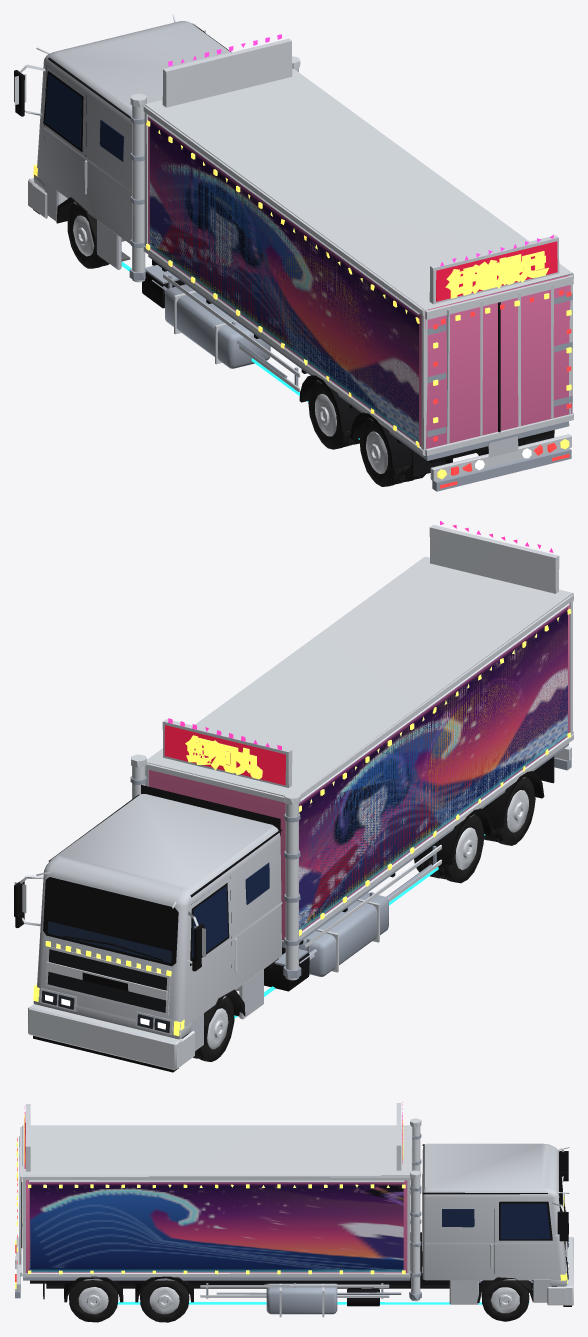
The model's file is dekotora_truck_pinkbox_lod1.glb.
3 renders of one model, top to bottom at view 1: azimuth 30°, elevation 25°; view 2: azimuth 150°, elevation 25°; view 3: azimuth 270°, elevation 25°, orthographic. The views are drawn at different scales.
Parts seen in each view (by area): view 1: lod1_chrome, lod1_mural, lod1_paint_white_panel, lod1_box_pink, lod1_steel, lod1_plastic_black, lod1_lamp_amber, lod1_rubber_tire, lod1_glass, lod1_andon_panel, lod1_lamp_red; view 2: lod1_chrome, lod1_mural, lod1_paint_white_panel, lod1_plastic_black, lod1_steel, lod1_box_pink, lod1_rubber_tire, lod1_vent_slots, lod1_lamp_amber, lod1_andon_panel, lod1_glass, lod1_plastic_trim (+1 smaller); view 3: lod1_mural, lod1_chrome, lod1_paint_white_panel, lod1_plastic_black, lod1_steel, lod1_rubber_tire, lod1_glass, lod1_box_pink, lod1_lamp_amber, lod1_lamp_cyan, lod1_plastic_trim.
Part boxes in pixels (box(x1,y1,x2,y2)): lod1_chrome: box(14, 14, 573, 480); lod1_mural: box(149, 118, 418, 442); lod1_paint_white_panel: box(33, 21, 230, 269); lod1_box_pink: box(148, 116, 571, 448); lod1_steel: box(129, 115, 572, 491); lod1_plastic_black: box(14, 23, 554, 469); lod1_lamp_amber: box(33, 120, 571, 479); lod1_rubber_tire: box(67, 204, 524, 486); lod1_glass: box(44, 74, 124, 161); lod1_andon_panel: box(436, 241, 557, 301); lod1_lamp_red: box(433, 290, 571, 488); lod1_chrome: box(14, 525, 573, 1070); lod1_mural: box(299, 606, 567, 929); lod1_paint_white_panel: box(33, 794, 281, 1050); lod1_plastic_black: box(14, 768, 544, 1072); lod1_steel: box(130, 743, 571, 978); lod1_box_pink: box(148, 603, 569, 940); lod1_rubber_tire: box(193, 777, 535, 1061); lod1_vent_slots: box(47, 949, 166, 1012); lod1_lamp_amber: box(33, 609, 571, 1035); lod1_andon_panel: box(164, 725, 285, 785); lod1_glass: box(192, 862, 269, 957); lod1_plastic_trim: box(141, 785, 280, 1044); lod1_mural: box(29, 1182, 403, 1271); lod1_chrome: box(16, 1103, 573, 1317); lod1_paint_white_panel: box(422, 1143, 567, 1304); lod1_plastic_black: box(21, 1144, 571, 1306); lod1_steel: box(15, 1133, 532, 1314); lod1_rubber_tire: box(69, 1280, 529, 1322); lod1_glass: box(442, 1203, 550, 1239); lod1_box_pink: box(26, 1180, 407, 1273); lod1_lamp_amber: box(15, 1114, 567, 1288); lod1_lamp_cyan: box(117, 1302, 529, 1304); lod1_plastic_trim: box(422, 1174, 532, 1302).
Bounding box in the file's own units: 3.24 × 4.16 × 11.83.
22 materials, 7 textured.
